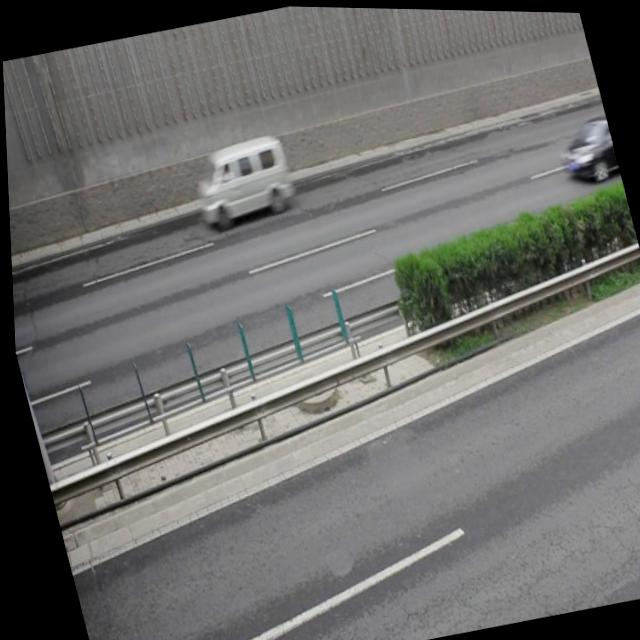car: (547, 107, 620, 186)
truck: (183, 130, 297, 230)
